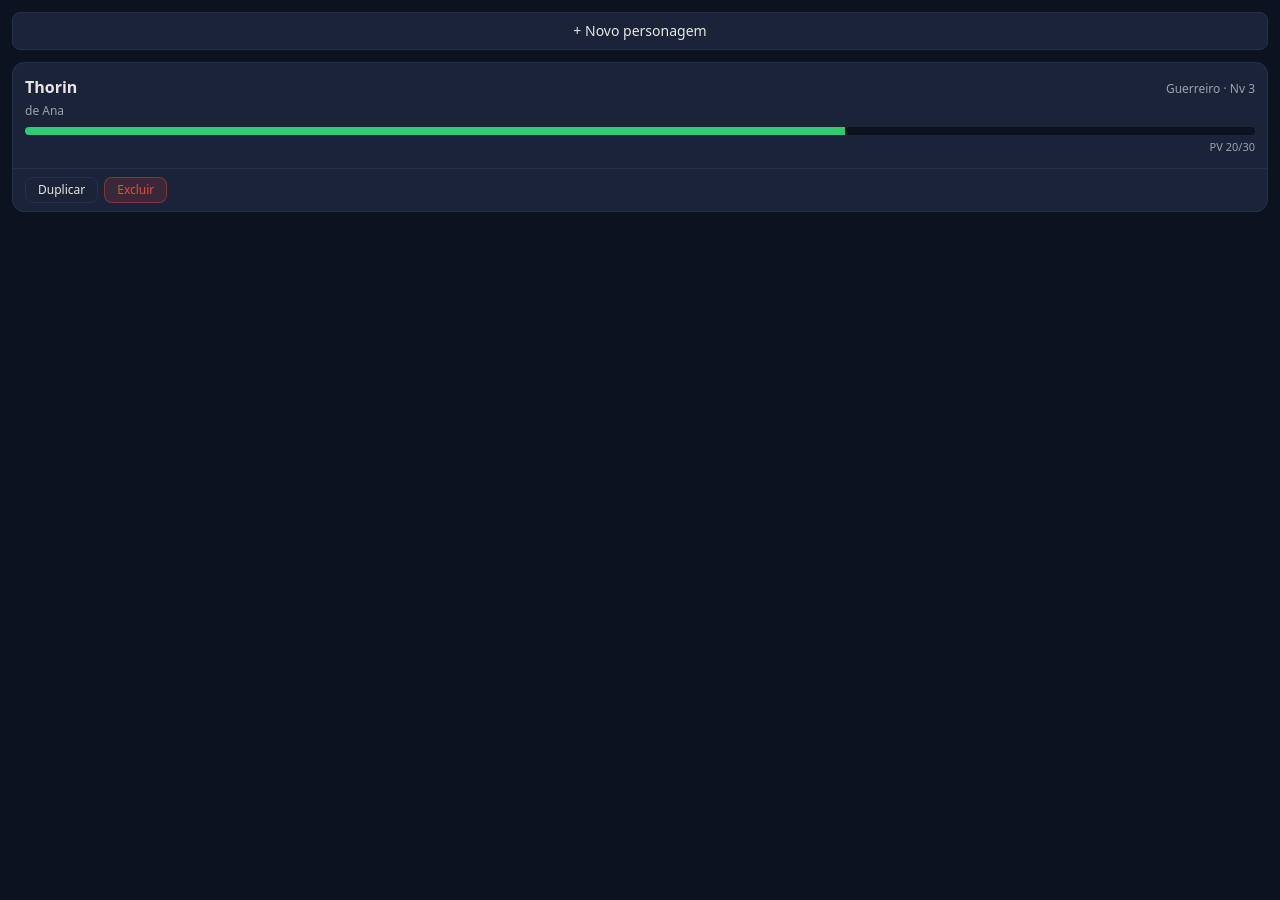
Scenario: gestão de fichas na lista (RV-093) › duplicar manda o POST com corpo vazio — sem ele o cliente HTTP recusa (RV-029)
Expected: the text "Thorin" is shown, [25, 75, 77, 99]
Click the button with aria-label "Duplicar Thorin" at point(62, 190), box [25, 176, 98, 202]
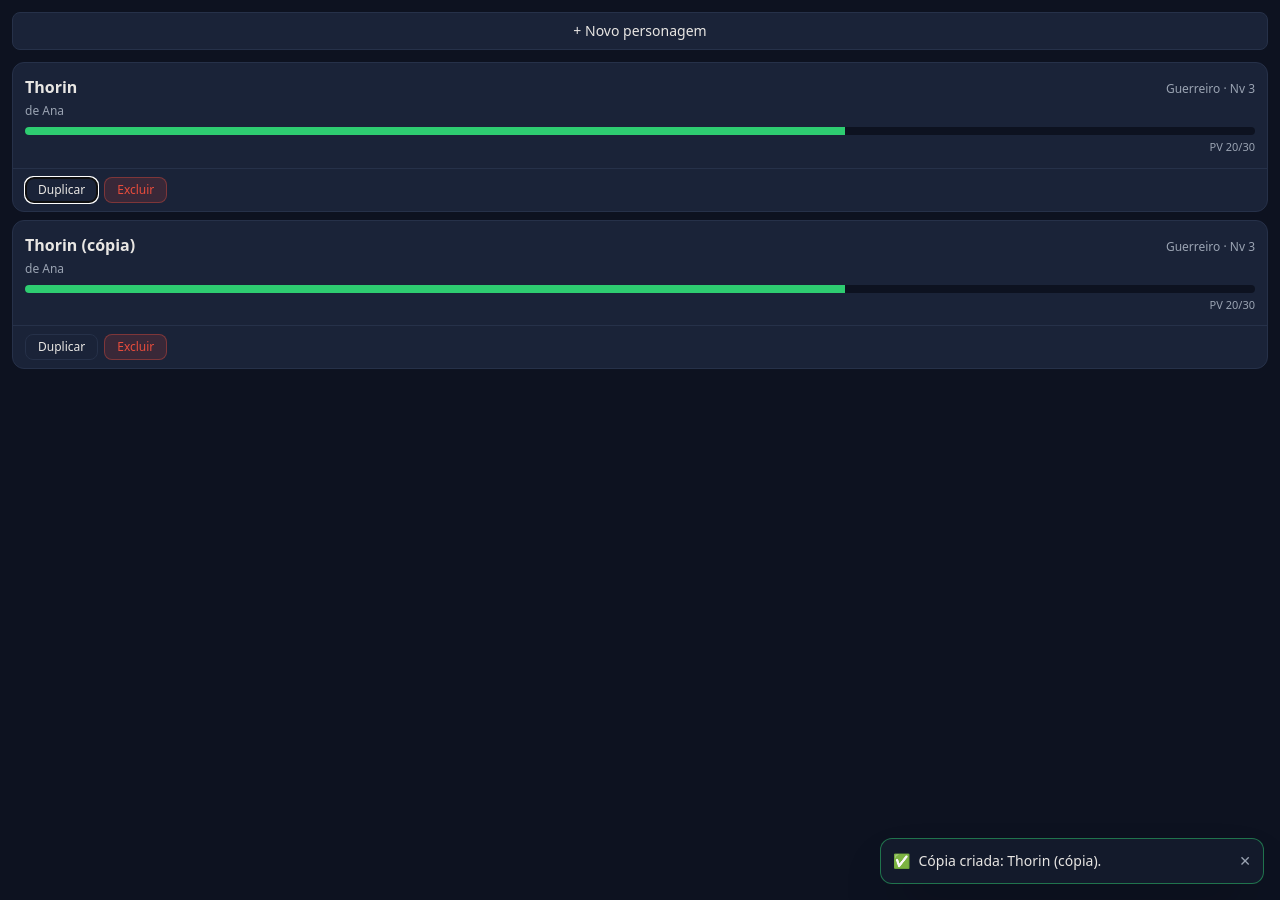
Expected: the text "Cópia criada: Thorin (cópia)." is shown, [918, 850, 1101, 870]
